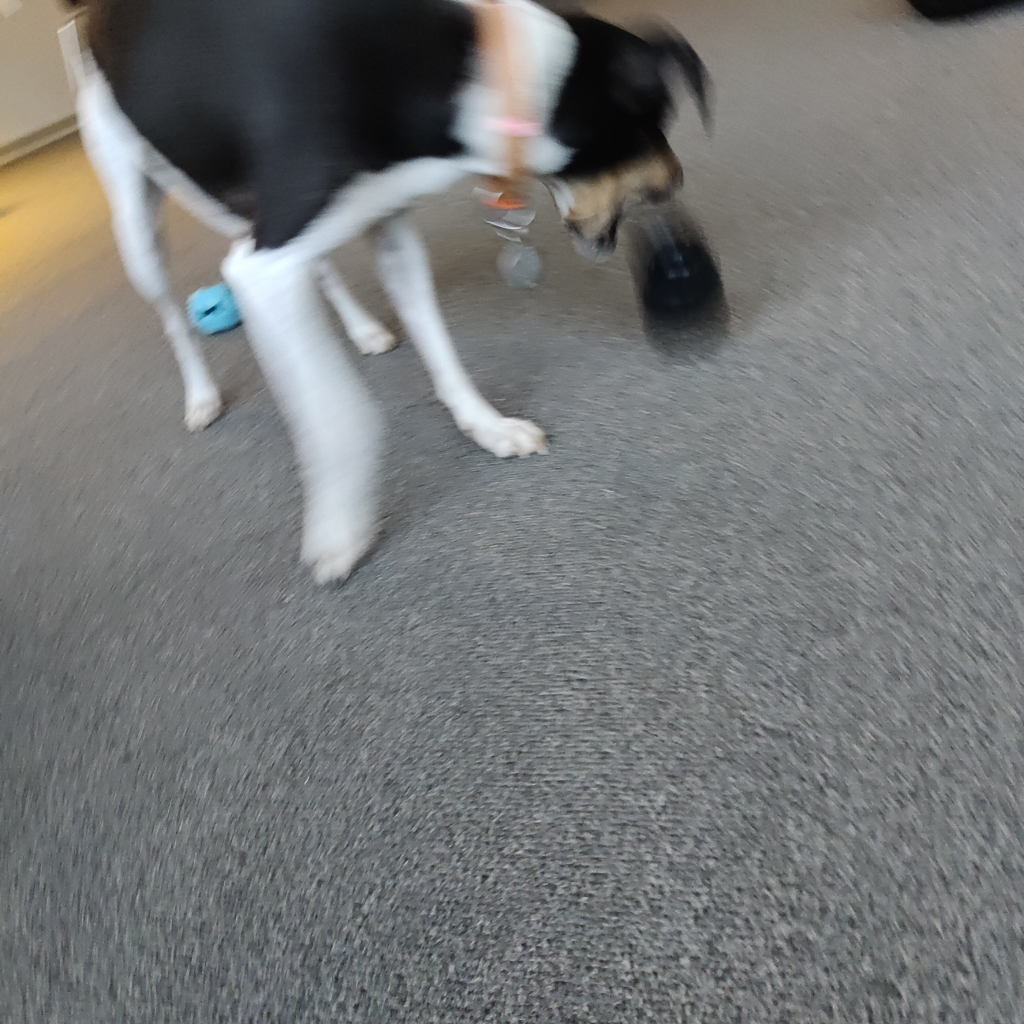Dog: (60, 0, 729, 605)
